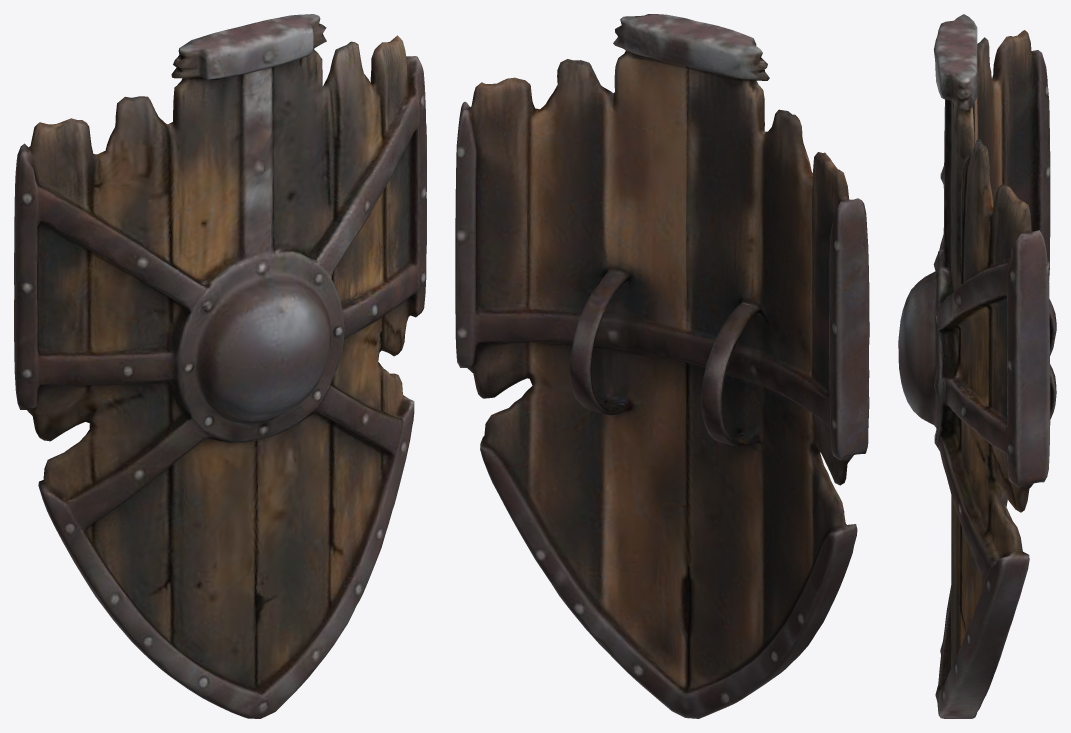
The model's file is PF_Shield11.glb.
The picture shows the model from 3 angles, left to right: view 1: azimuth 30°, elevation 25°; view 2: azimuth 150°, elevation 25°; view 3: azimuth 270°, elevation 25°; orthographic projection.
Bounding box in the file's own units: 1.26 × 2.01 × 0.4294.
Materials: 1 (1 with a texture image).
